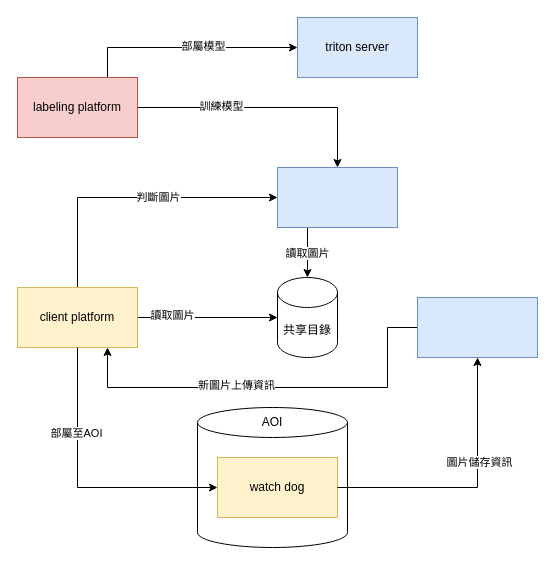
This 555x565 diagram has some shape labels left out. The centre of each missing label's shape, as x and y in pixels:
MQTT server: the point at 477,327
training server: the point at 337,197
